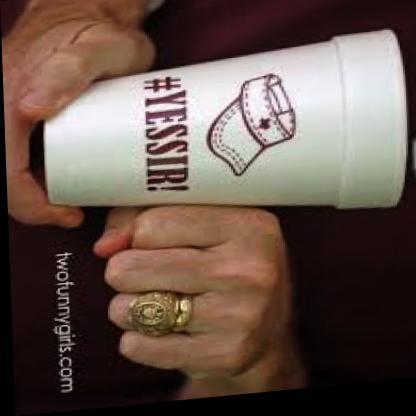trash: (44, 30, 406, 207)
